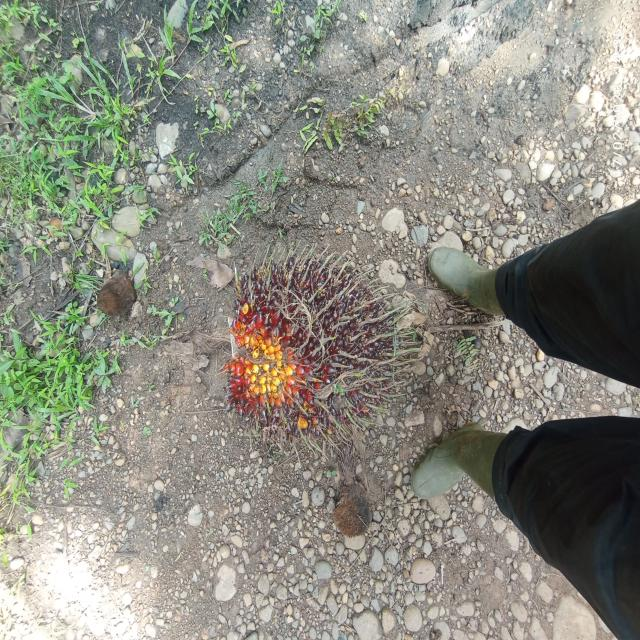fraksi 1: (216, 233, 408, 448)
